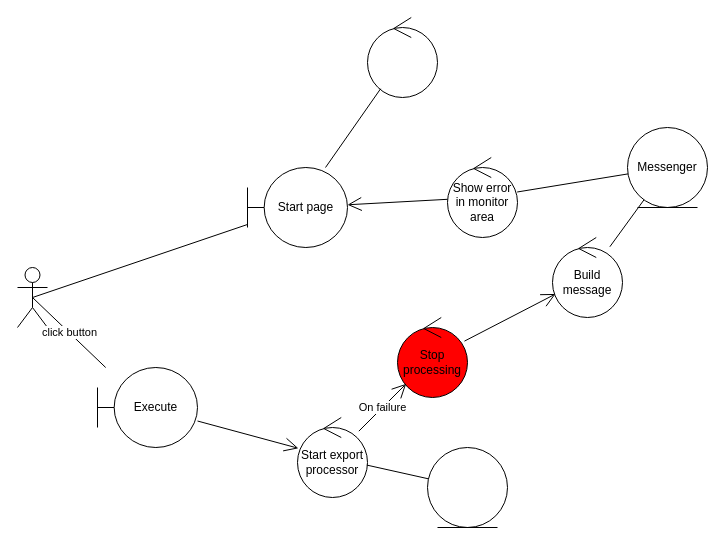
This 725x545 diagram has some shape labels left out. The centre of each missing label's shape, as x and y in pixels:
"Processor" belongs at point 467,487.
"Show start page" belongs at point 402,57.
"User" belongs at point 32,297.
